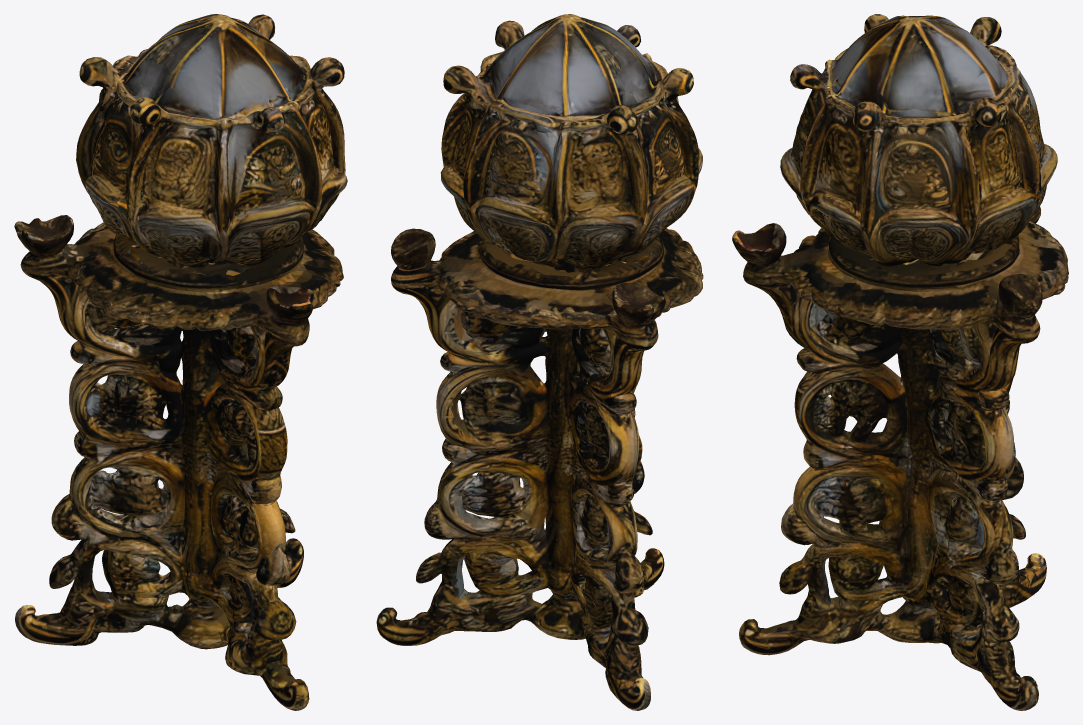
The picture shows the model from 3 angles, left to right: view 1: azimuth 30°, elevation 25°; view 2: azimuth 150°, elevation 25°; view 3: azimuth 270°, elevation 25°; orthographic projection. The views are drawn at different scales.
Parts seen in each view (by area): view 1: textured_mesh; view 2: textured_mesh; view 3: textured_mesh.
Part boxes in pixels (x1,y1,x2,y2): textured_mesh: (14,14,347,710); textured_mesh: (376,14,703,710); textured_mesh: (732,14,1068,710).
Bounding box in the file's own units: 0.9358 × 1.99 × 0.9521.
1 material, 1 textured.
